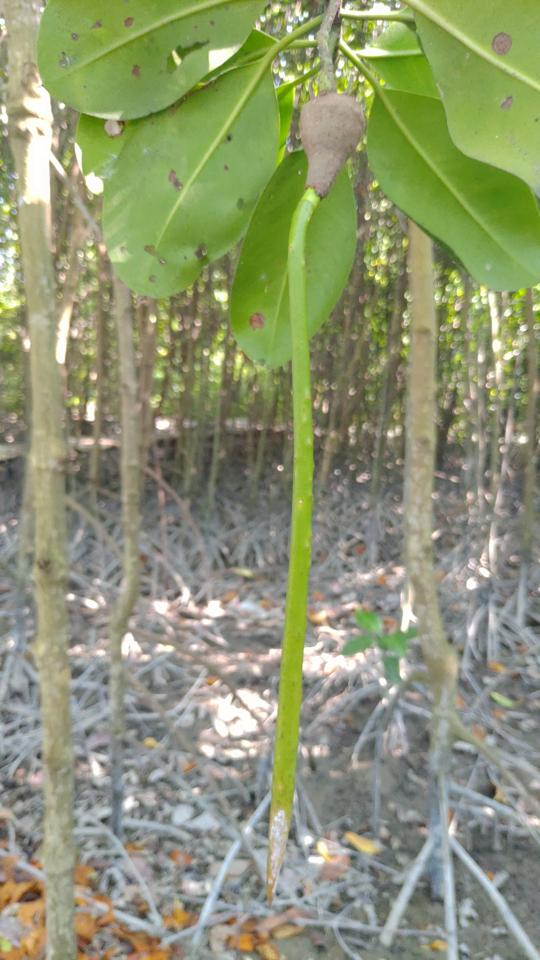setengah matang: (253, 67, 379, 919)
